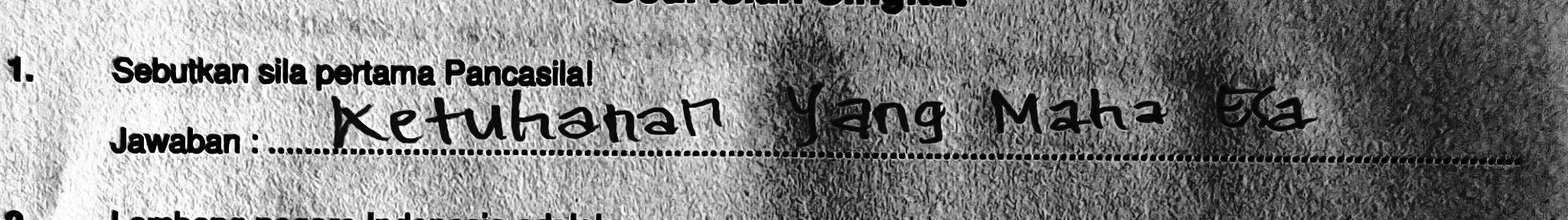jawaban: (328, 87, 727, 148), (785, 80, 950, 145), (991, 85, 1170, 137), (1213, 82, 1313, 132)
